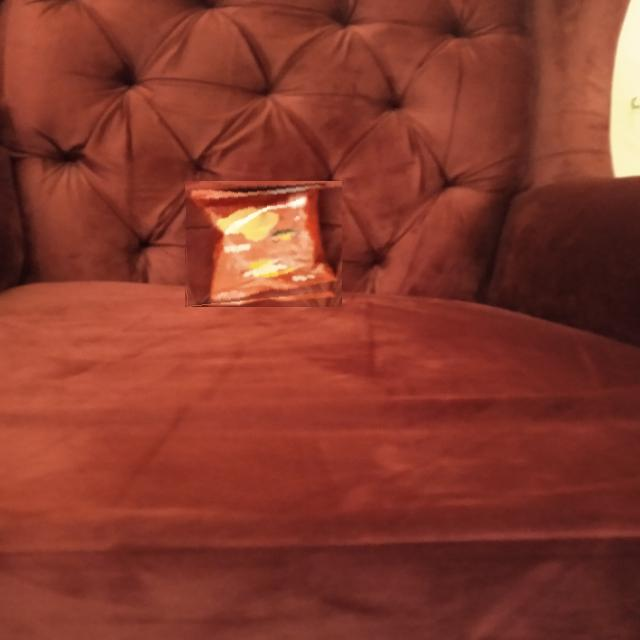Plastic: (185, 182, 342, 308)
